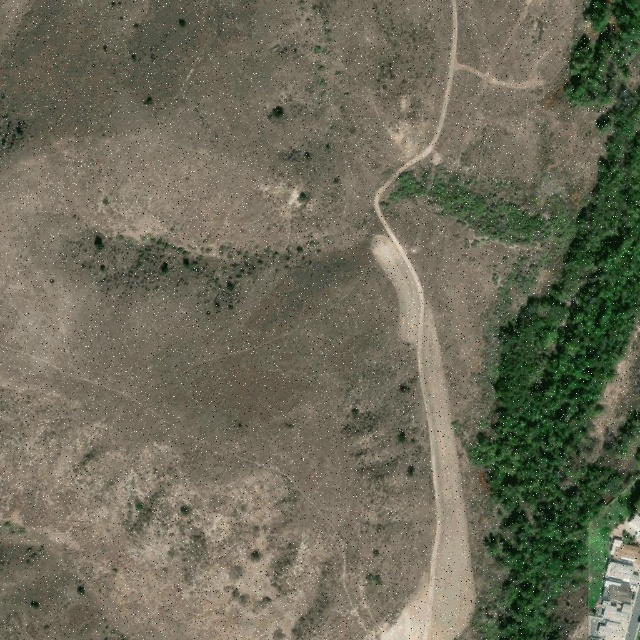vegetation: (388, 0, 640, 640)
